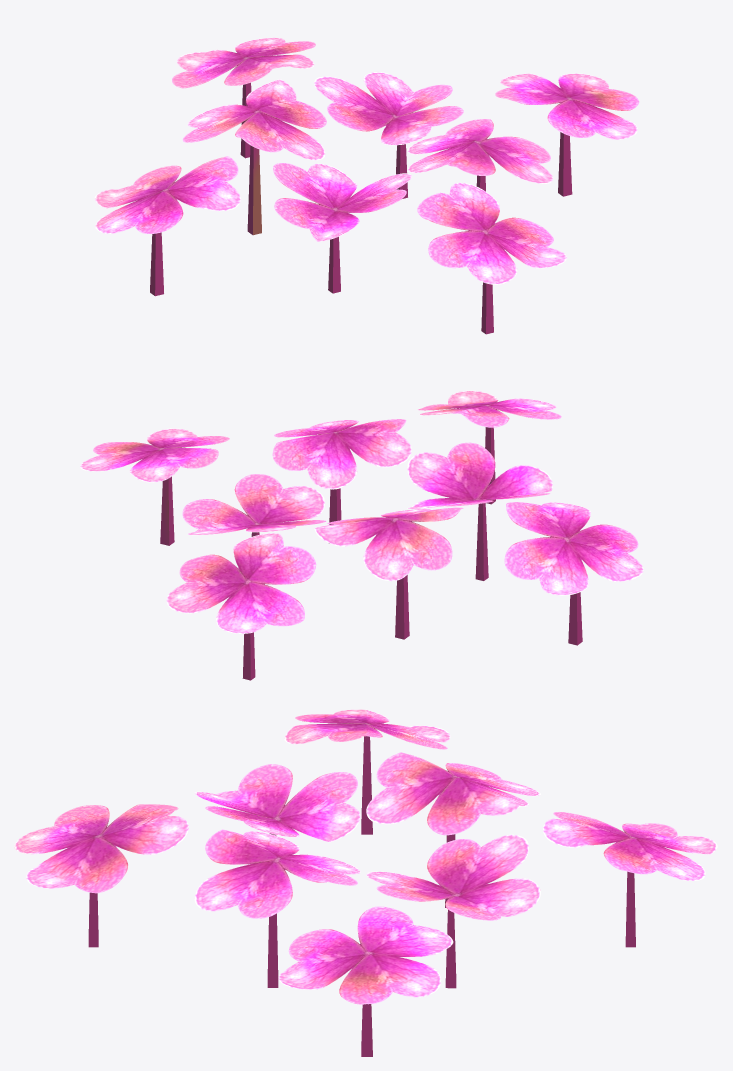
Rendered from low_poly_stylized_clover_grass.glb.
3 renders of one model, top to bottom at view 1: azimuth 30°, elevation 25°; view 2: azimuth 150°, elevation 25°; view 3: azimuth 270°, elevation 25°, orthographic. The views are drawn at different scales.
Parts seen in each view (by area): view 1: Plane; view 2: Plane; view 3: Plane.
Part boxes in pixels (box(x1,y1,x2,y2)): Plane: box(94, 37, 639, 334); Plane: box(80, 390, 643, 680); Plane: box(14, 709, 717, 1056).
Size of the model in its own units: 1.39 by 0.2929 by 1.39.
Materials: 1 (1 with a texture image).
